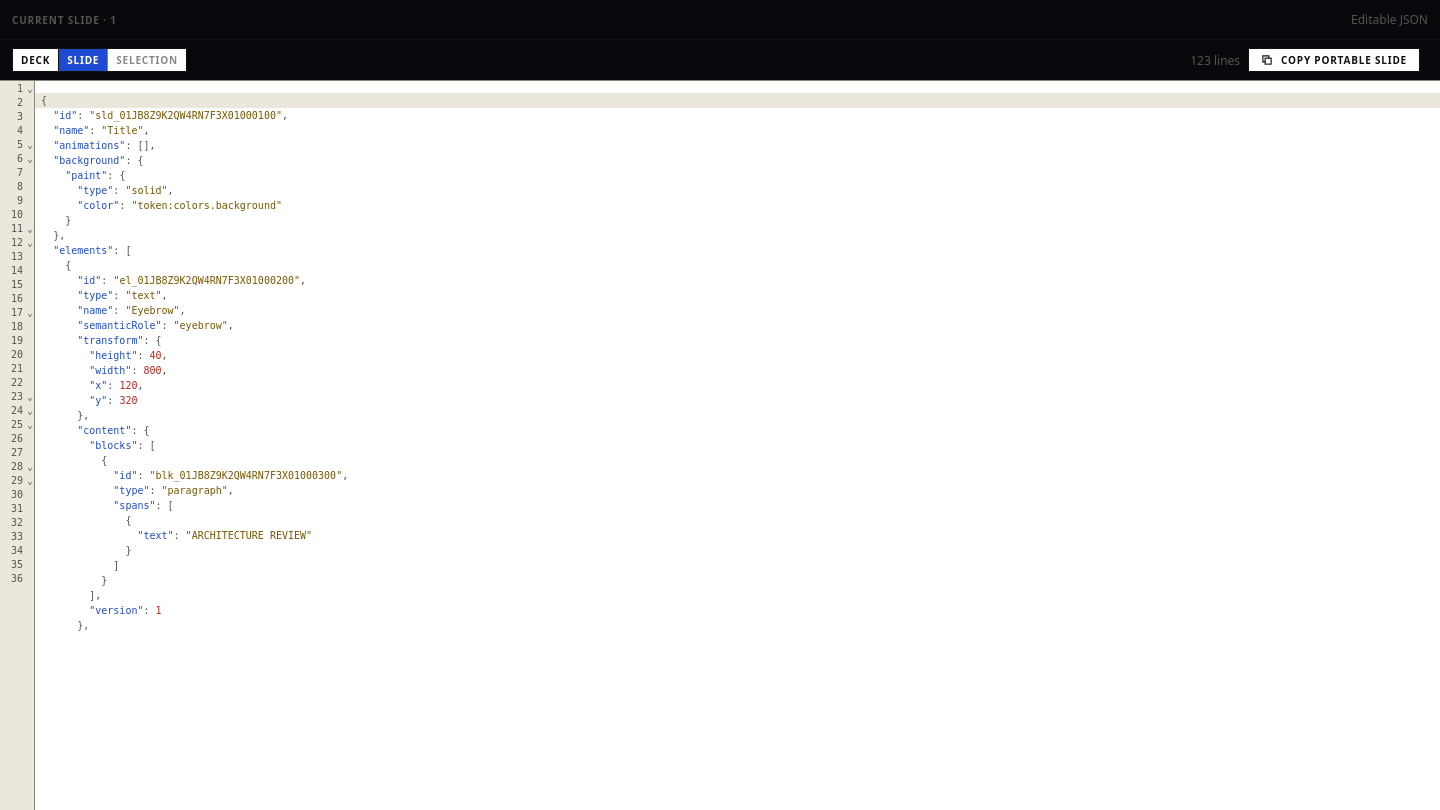
Test: Code mode › uses the desktop clipboard bridge when the browser clipboard is refused
The width and height of the screenshot is (1440, 810).
Click the button with test id "code-copy": (1334, 60) [1248,48,1420,72]
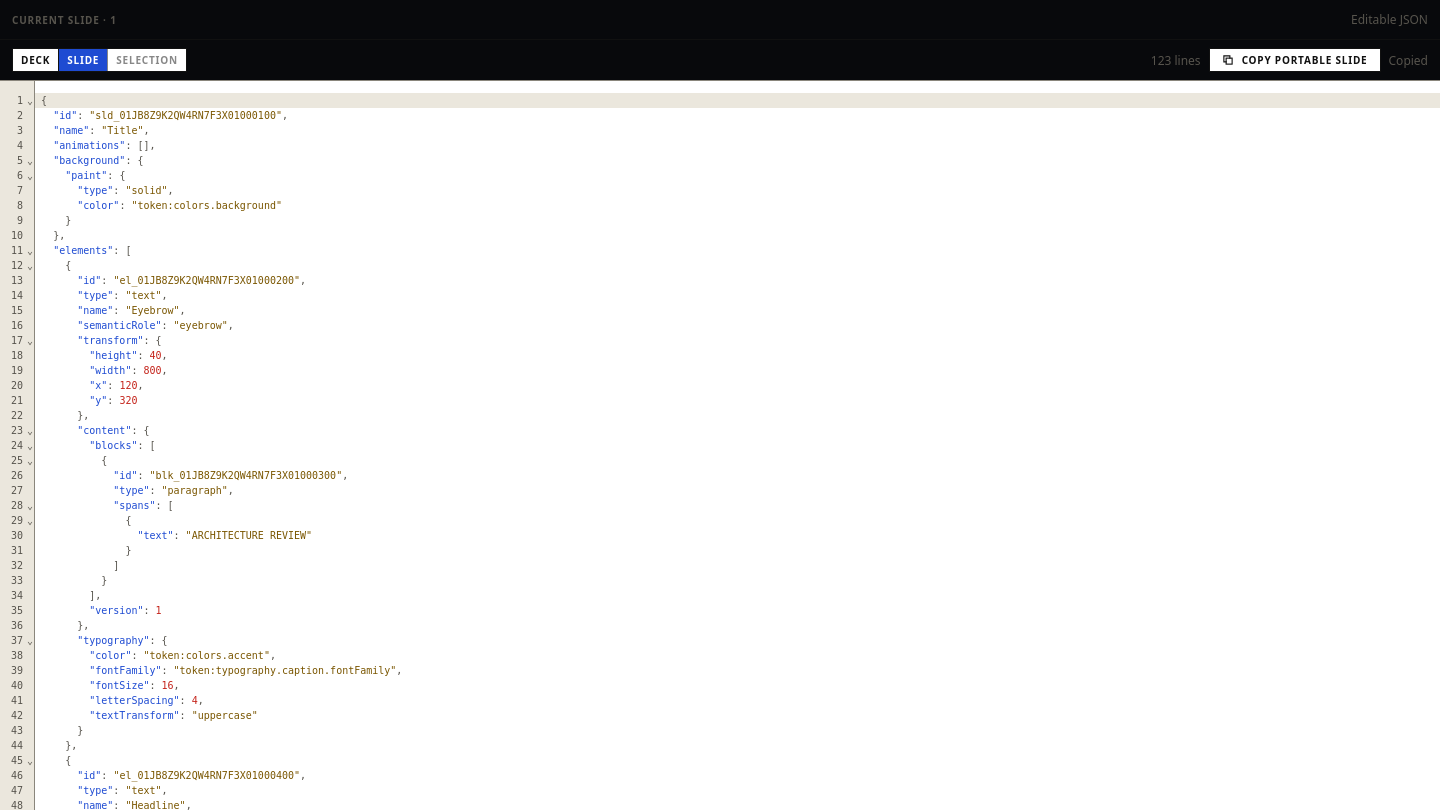
Expected: the message reads "Copied", [1388,52,1428,68]
